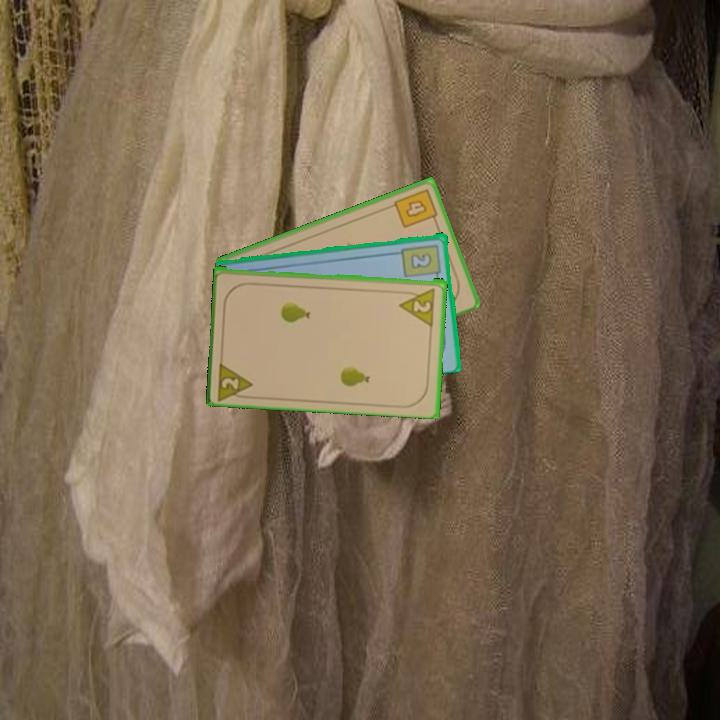2b: (399, 240, 444, 283)
2p: (214, 357, 256, 401), (396, 284, 438, 327)
4b: (390, 185, 441, 231)
